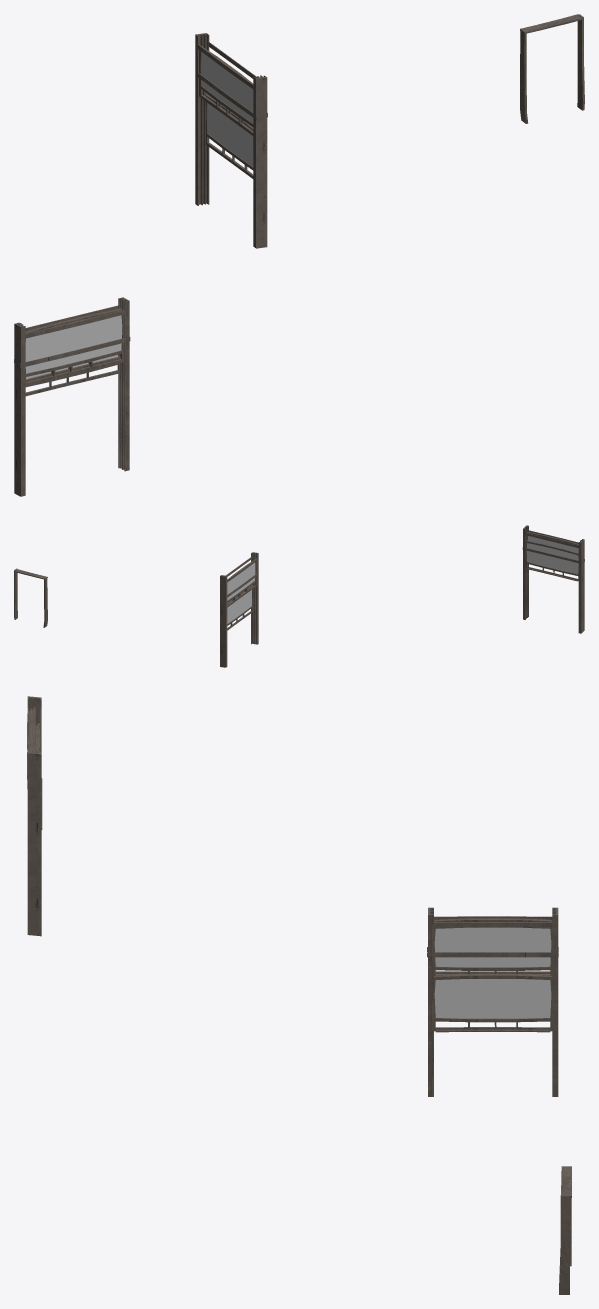
The model's file is Corridor_01_23.fbx.
3 views of the same model, one above another, from view 1: azimuth 30°, elevation 25°; view 2: azimuth 150°, elevation 25°; view 3: azimuth 270°, elevation 25° (orthographic). The views are drawn at different scales.
Visible parts, largest first — view 1: Corridor_01_23, Corridor_00_02.003; view 2: Corridor_01_23, Corridor_00_02.003; view 3: Corridor_01_23, Corridor_00_02.003.
Boxes of the visible parts, left/top/right/bottom form: Corridor_01_23: left=14, top=14, right=584, bottom=496; Corridor_00_02.003: left=25, top=52, right=253, bottom=379; Corridor_01_23: left=14, top=525, right=584, bottom=667; Corridor_00_02.003: left=227, top=536, right=578, bottom=623; Corridor_01_23: left=27, top=696, right=571, bottom=1294; Corridor_00_02.003: left=434, top=927, right=551, bottom=1018.
Bounding box in the file's own units: 2677 × 566 × 1451.
